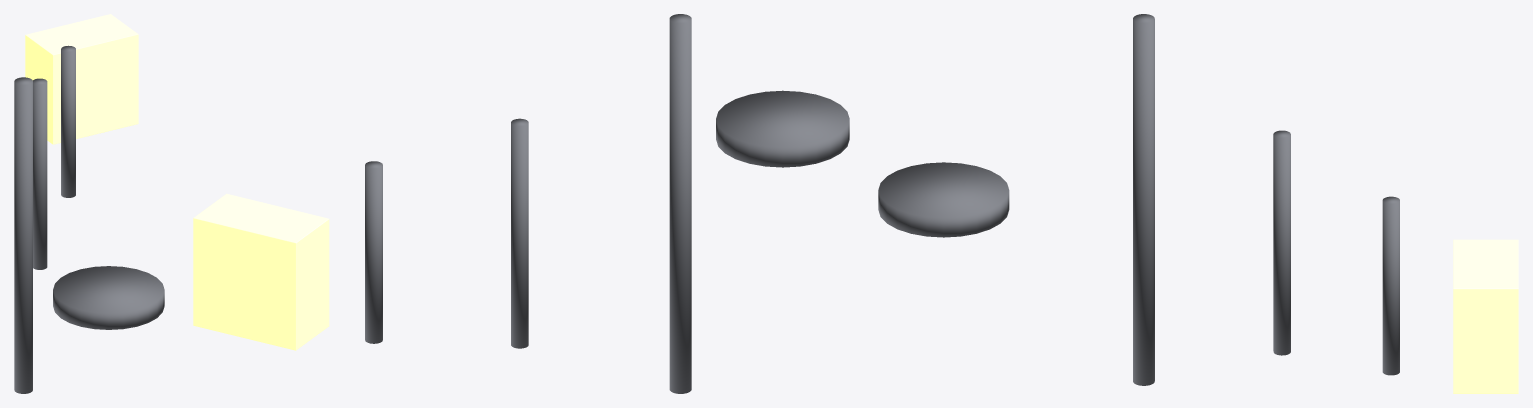
File: task_lamp.glb
3 views of the same model, side by side, from view 1: azimuth 30°, elevation 25°; view 2: azimuth 150°, elevation 25°; view 3: azimuth 270°, elevation 25° (orthographic). The views are drawn at different scales.
Visible parts, largest first — view 1: head, base, stem, arm1, arm2; view 2: head, stem, base, arm1, arm2; view 3: head, base, stem, arm1, arm2.
Boxes of the visible parts, x1,y1,x2,y2 form: head: (25,14,138,144); base: (53,266,164,329); stem: (14,77,32,393); arm1: (33,78,47,269); arm2: (61,45,75,197); head: (193,193,329,350); stem: (669,14,691,393); base: (716,90,849,167); arm1: (511,118,528,348); arm2: (365,161,382,343); head: (1453,239,1518,393); base: (878,162,1009,237); stem: (1133,14,1154,385); arm1: (1273,130,1290,355); arm2: (1382,196,1399,375).
Bounding box in the file's own units: 0.55 × 0.55 × 0.88.
